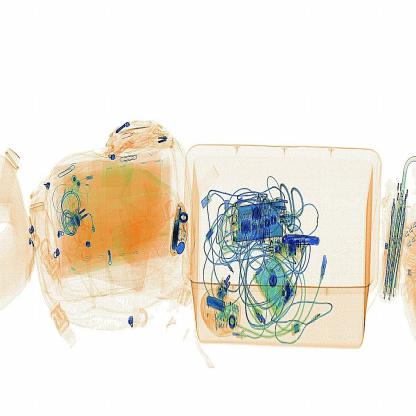knife: (277, 229, 325, 261)
